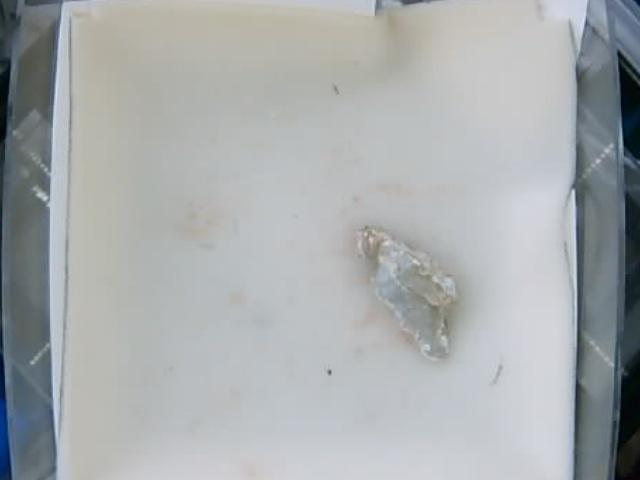Brisk: (360, 222, 457, 359)
